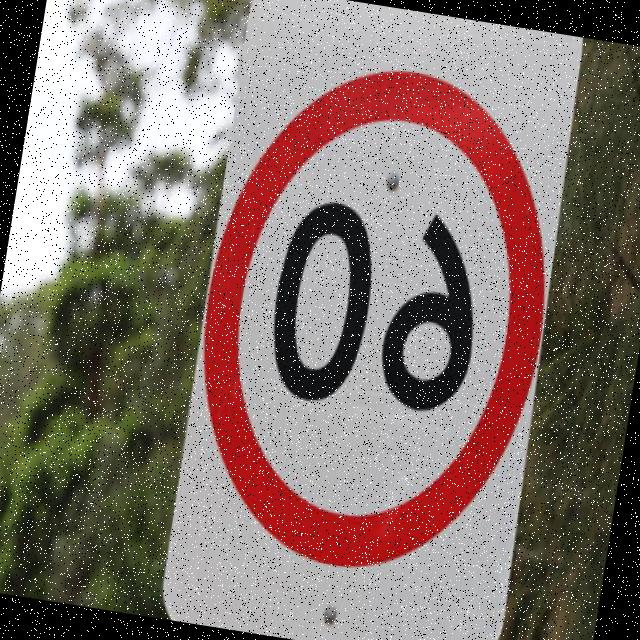speed_limit_60: (169, 36, 582, 600)
